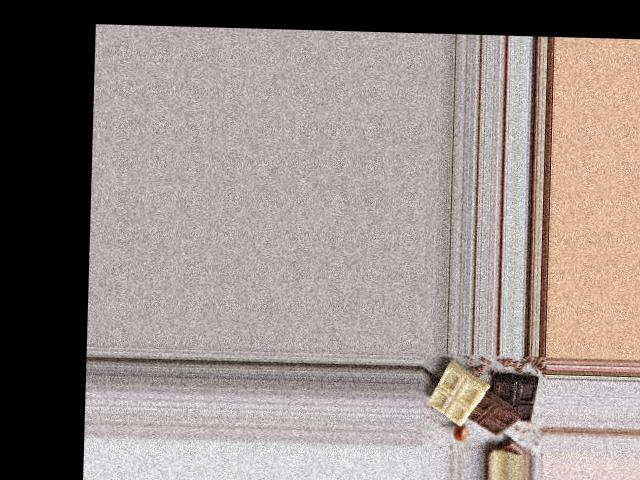chocolate: (427, 365, 543, 436)
